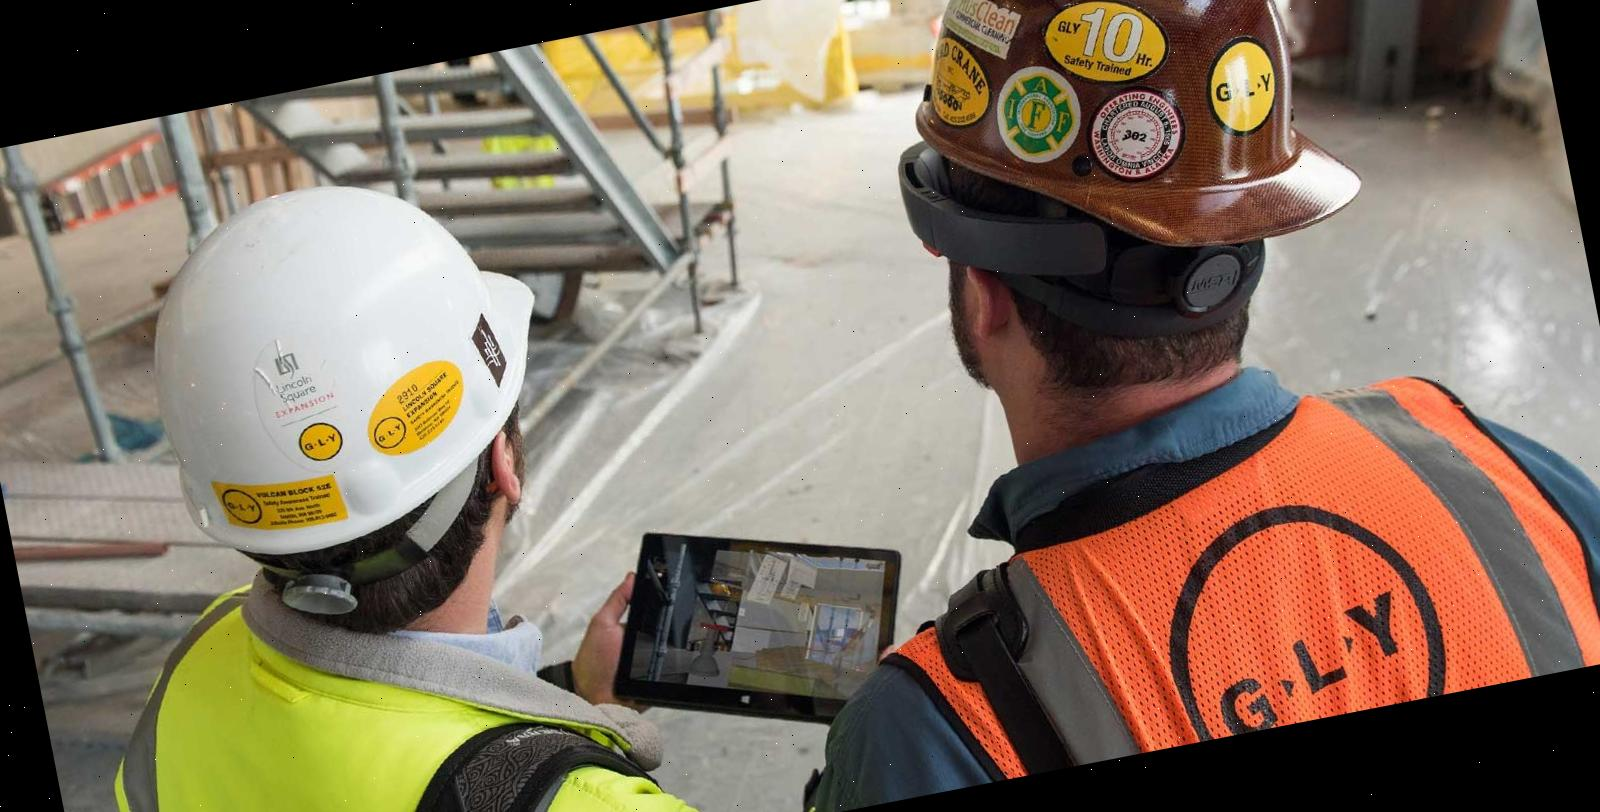helmet: (122, 145, 579, 585), (886, 0, 1372, 299)
wear: (767, 363, 1600, 812), (83, 561, 717, 812)
